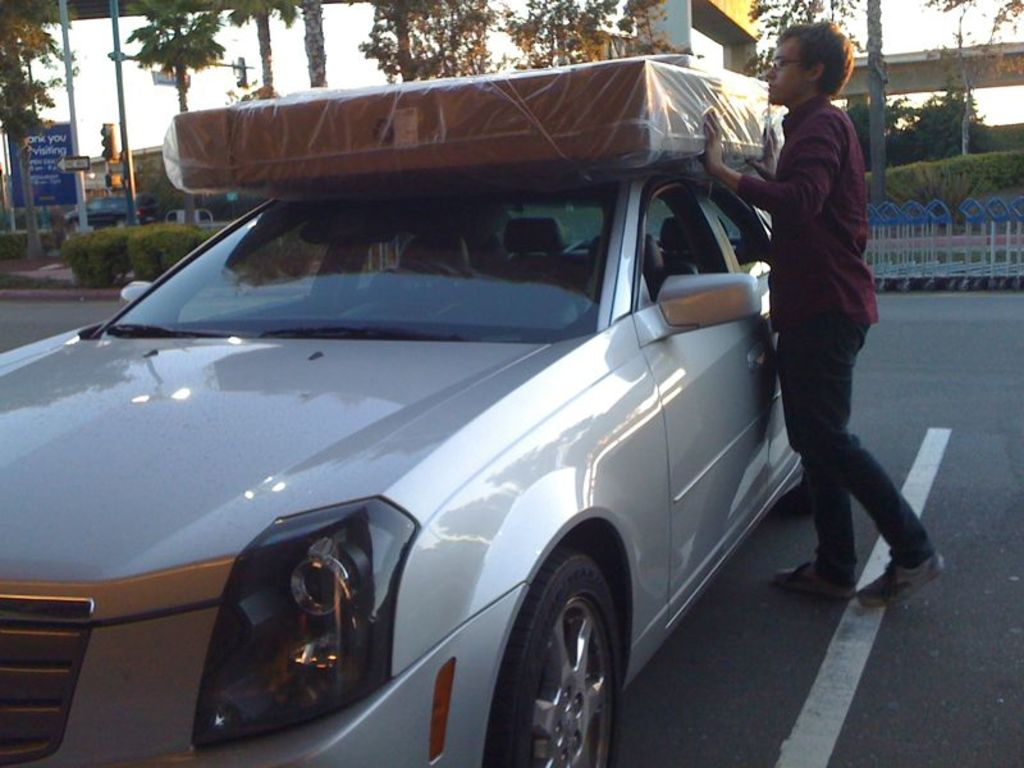Person: (701, 18, 945, 609)
